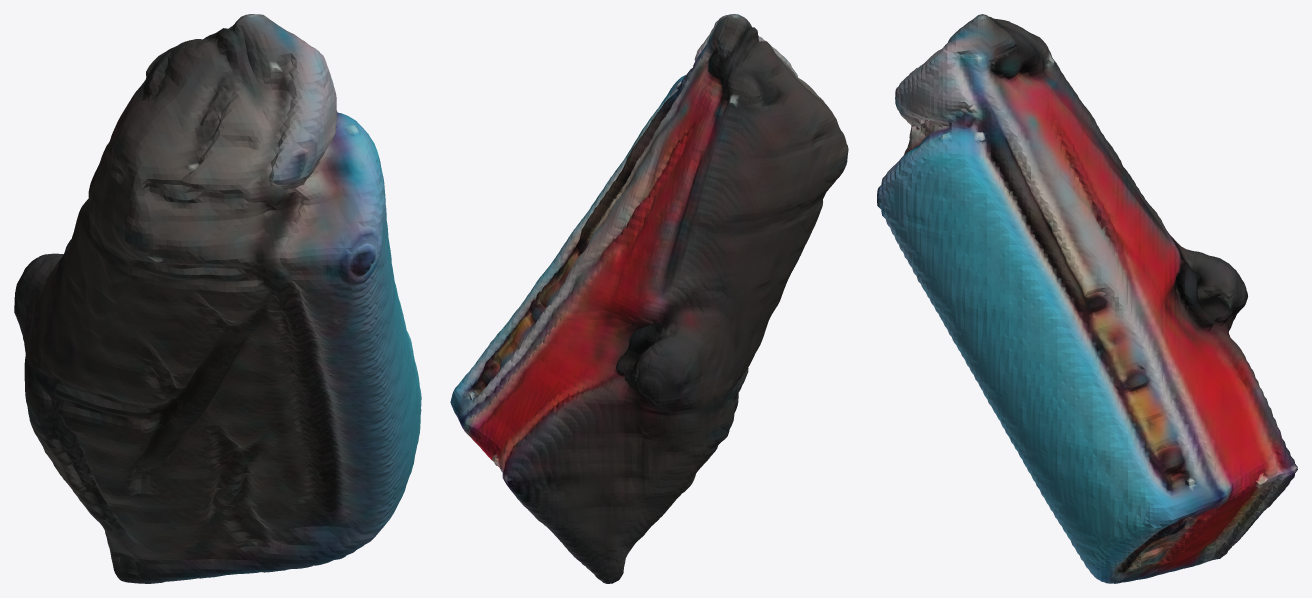
3 views of the same model, side by side, from view 1: azimuth 30°, elevation 25°; view 2: azimuth 150°, elevation 25°; view 3: azimuth 270°, elevation 25° (orthographic). The views are drawn at different scales.
Size of the model in its own units: 0.5765 by 0.9094 by 0.6524.
